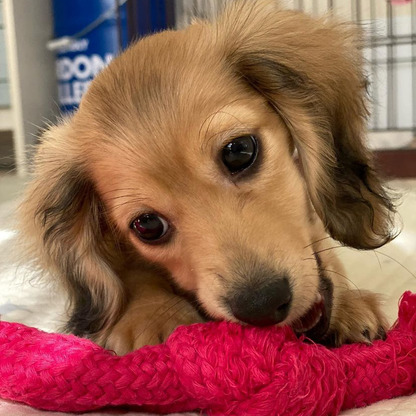dachshund: (27, 24, 393, 338)
